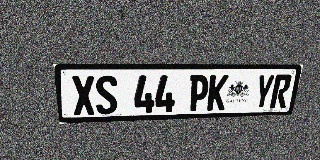4: (134, 75, 155, 113), (155, 75, 176, 113)
K: (206, 75, 229, 111)
P: (188, 75, 210, 111)
R: (269, 74, 292, 108)
S: (95, 75, 118, 115)
X: (71, 76, 96, 115)
Y: (252, 75, 275, 109)
